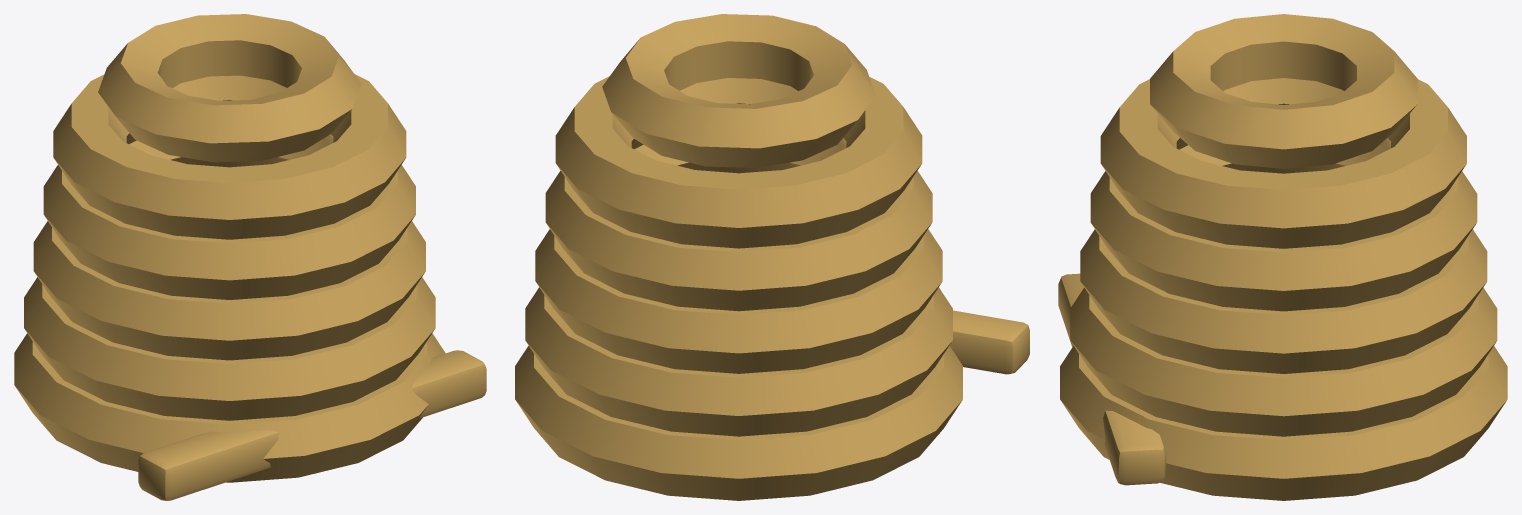
File: RopeCoil.glb
3 views of the same model, side by side, from view 1: azimuth 30°, elevation 25°; view 2: azimuth 150°, elevation 25°; view 3: azimuth 270°, elevation 25° (orthographic). The views are drawn at different scales.
Visible parts, largest first — view 1: RopeCoil; view 2: RopeCoil; view 3: RopeCoil.
Part boxes in pixels (<box>): RopeCoil: <box>14,14,486,500</box>; RopeCoil: <box>515,14,1029,500</box>; RopeCoil: <box>1058,14,1507,500</box>.
Size of the model in its own units: 0.53 by 0.452 by 0.5239.
